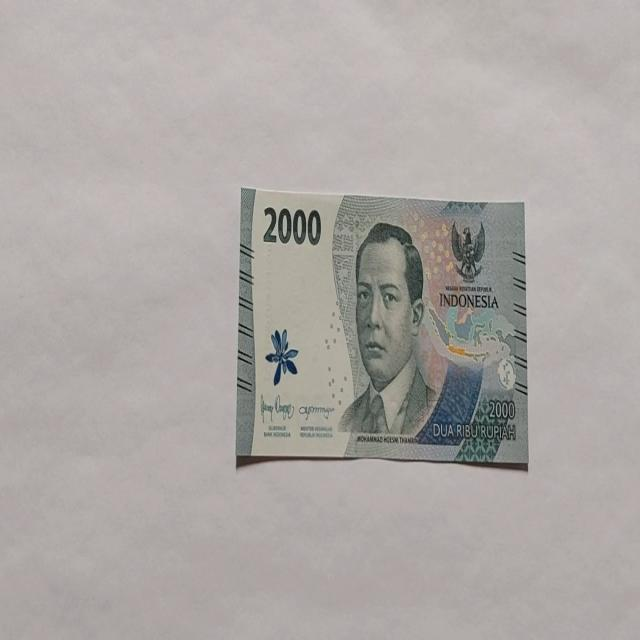dua ribu rupiah: (235, 186, 528, 468), (336, 221, 438, 438)
